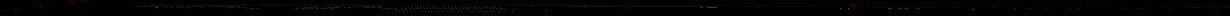Blue cone: (38, 6, 42, 7)
Yellow cone: (848, 4, 858, 7)
